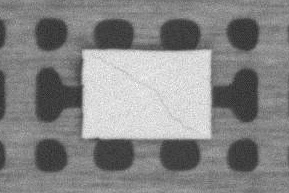DIE_CRACK: (97, 57, 202, 134)
